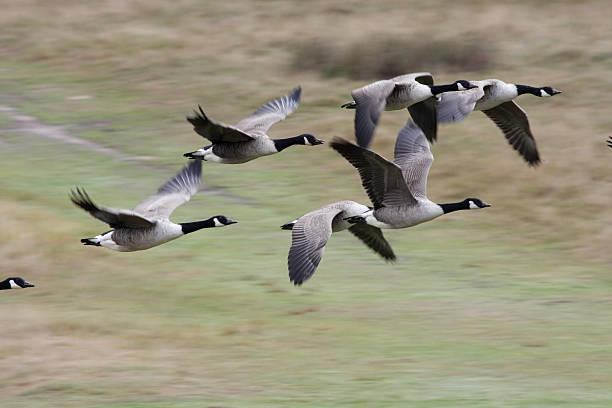Canadian-Goose: (337, 125, 490, 225), (72, 166, 236, 251), (187, 90, 314, 161), (470, 64, 562, 157), (348, 67, 465, 126), (271, 193, 358, 258), (0, 263, 34, 294)
